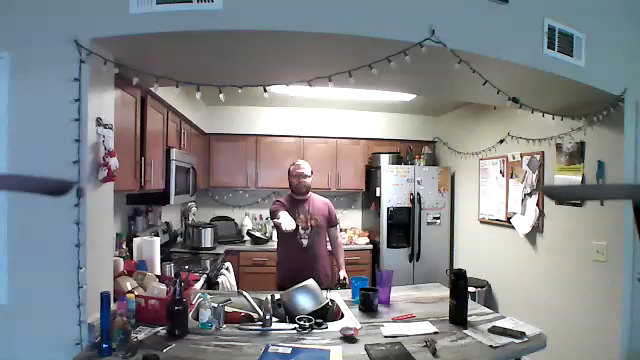land: (269, 215, 299, 236)
